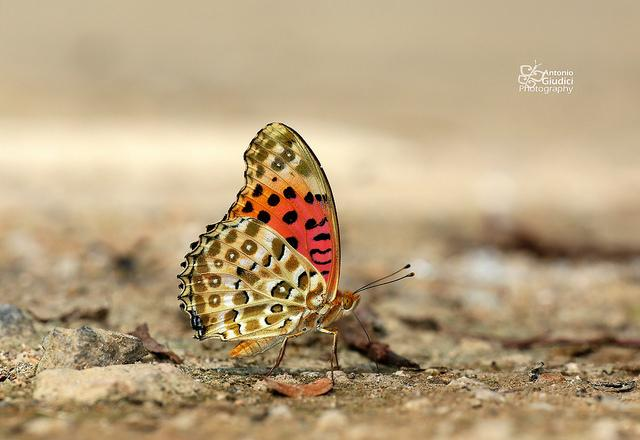Argyreus hyperbius: (170, 117, 417, 386)
butterfly: (172, 119, 419, 388)
